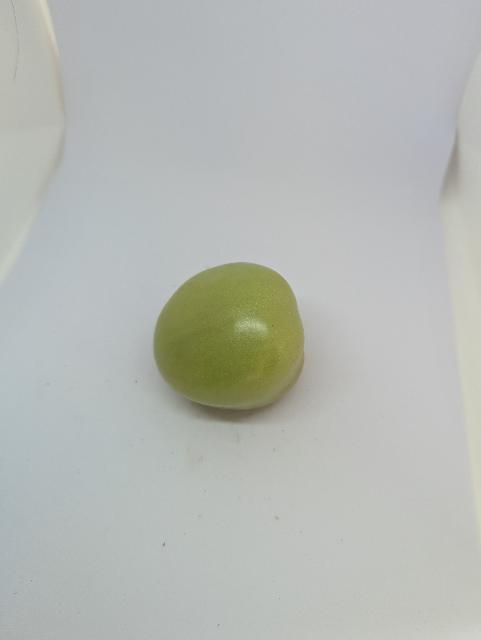green: (147, 244, 322, 441)
